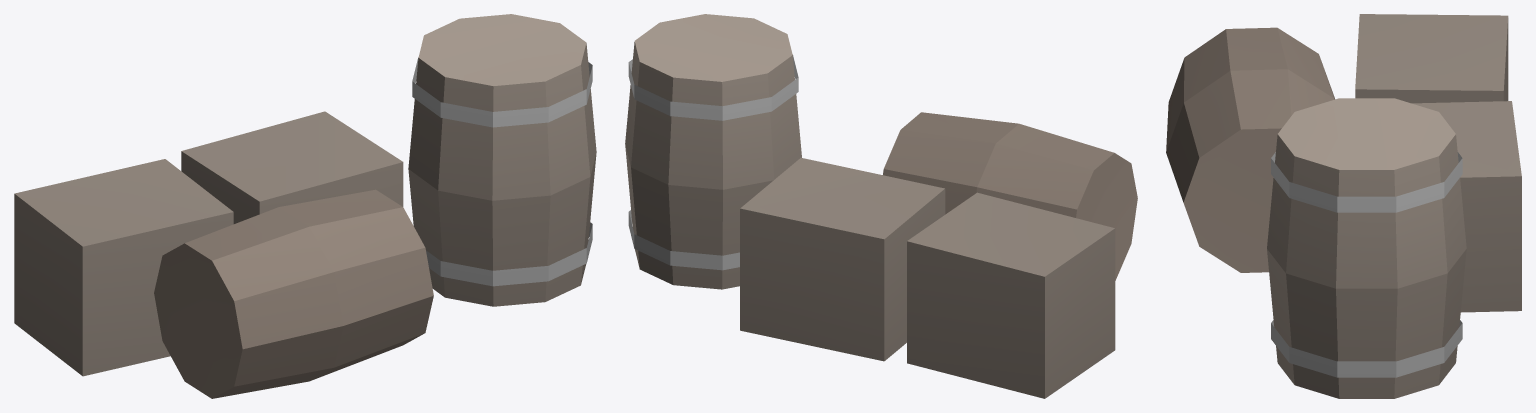
File: barrels_1.glb
The picture shows the model from 3 angles, left to right: view 1: azimuth 30°, elevation 25°; view 2: azimuth 150°, elevation 25°; view 3: azimuth 270°, elevation 25°; orthographic projection. The views are drawn at different scales.
Parts seen in each view (by area): view 1: barrels_1; view 2: barrels_1; view 3: barrels_1.
Part boxes in pixels (left/top/right/bottom): barrels_1: left=14, top=14, right=596, bottom=398; barrels_1: left=625, top=14, right=1137, bottom=398; barrels_1: left=1166, top=14, right=1521, bottom=398.
Bounding box in the file's own units: 2.03 × 0.85 × 1.2.
